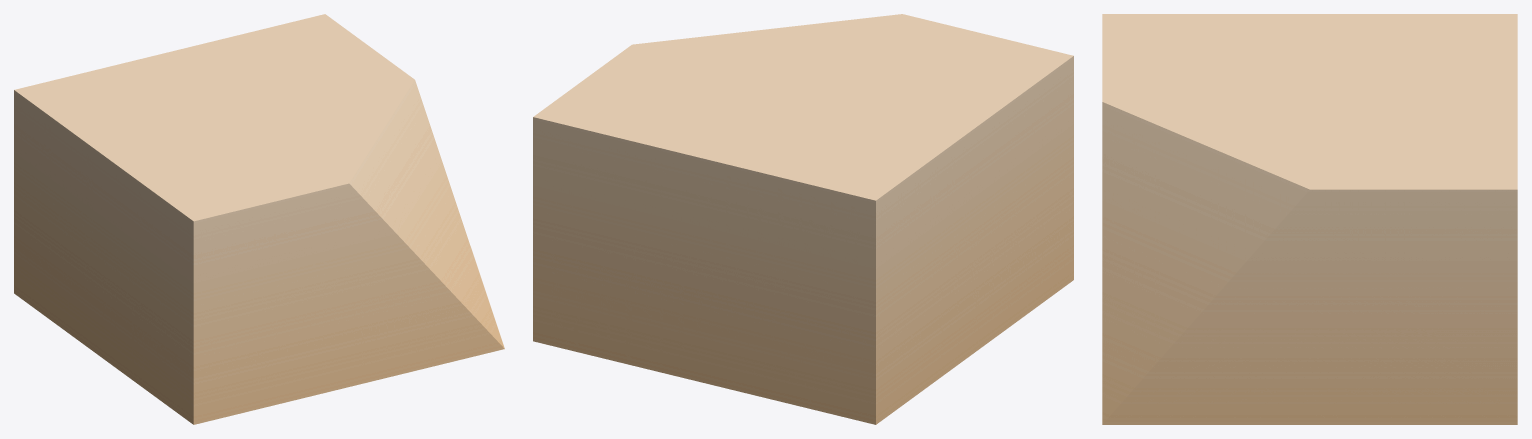
Rendered from kp_ui_building_corner_top.glb.
3 views of the same model, side by side, from view 1: azimuth 30°, elevation 25°; view 2: azimuth 150°, elevation 25°; view 3: azimuth 270°, elevation 25° (orthographic). The views are drawn at different scales.
Visible parts, largest first — view 1: building-corner-top; view 2: building-corner-top; view 3: building-corner-top.
Boxes of the visible parts, box(x1,y1,x2,y2) form: building-corner-top: box(14, 14, 504, 424); building-corner-top: box(533, 14, 1073, 424); building-corner-top: box(1102, 14, 1517, 424).
Size of the model in its own units: 1 by 0.625 by 1.
1 material, 1 textured.
